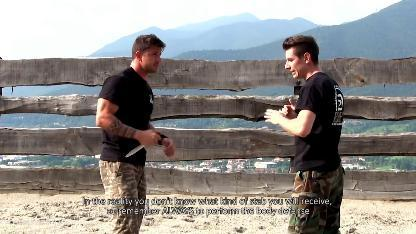knife: (122, 128, 162, 158)
